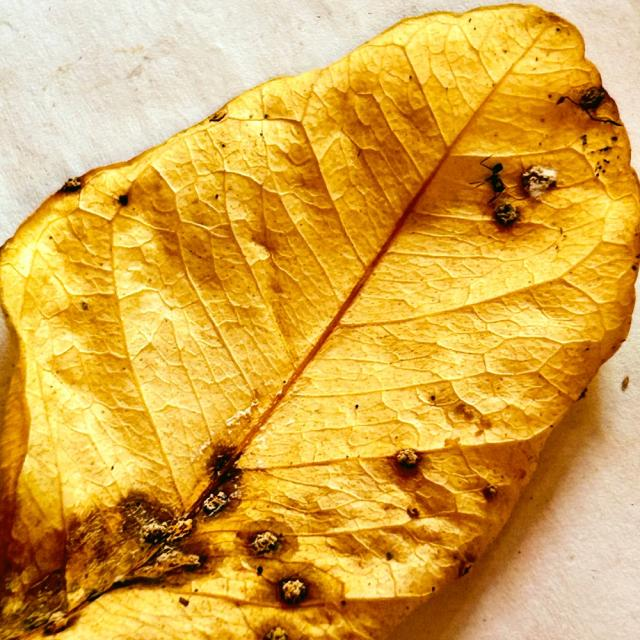DryLeaf_Lemon: (0, 4, 639, 639)
